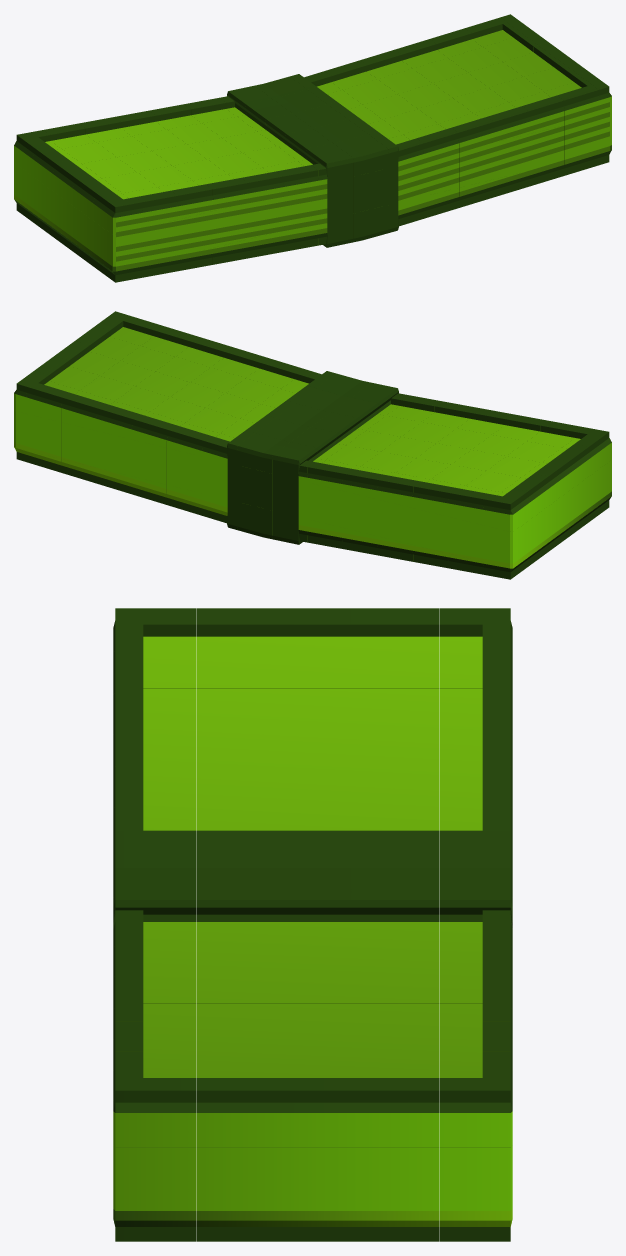
The model's file is Money.fbx.
The picture shows the model from 3 angles, top to bottom: view 1: azimuth 30°, elevation 25°; view 2: azimuth 150°, elevation 25°; view 3: azimuth 270°, elevation 25°; orthographic projection. The views are drawn at different scales.
Visible parts, largest first — view 1: Money.032, Money.007, Money.129, Money.185, Money.114, Money.166, Money.224, Money.038, Money.041, Money.099, Money.200, Money.210 (+100 smaller); view 2: Money.031, Money.006, Money.027, Money.029, Money.020, Money.122, Money.178, Money.087, Money.103, Money.164, Money.225, Money.039 (+88 smaller); view 3: Money.012, Money.043, Money.050, Money.057, Money.014, Money.042, Money.049, Money.056, Money.002, Money.004, Money.064, Money.071 (+73 smaller).
Part boxes in pixels (x1,y1,x2,y2): Money.032: [248, 158, 353, 247]; Money.007: [388, 143, 423, 232]; Money.129: [529, 125, 564, 170]; Money.185: [283, 185, 318, 230]; Money.114: [494, 134, 529, 178]; Money.166: [248, 194, 283, 238]; Money.224: [178, 211, 213, 256]; Money.038: [353, 168, 388, 213]; Money.041: [564, 117, 599, 161]; Money.099: [459, 142, 494, 187]; Money.200: [213, 202, 248, 247]; Money.210: [143, 219, 178, 264]; Money.031: [272, 442, 324, 544]; Money.006: [202, 430, 254, 529]; Money.027: [483, 519, 530, 568]; Money.029: [483, 488, 530, 531]; Money.020: [26, 374, 79, 422]; Money.122: [61, 422, 96, 467]; Money.178: [307, 482, 342, 527]; Money.087: [131, 439, 166, 484]; Money.103: [96, 431, 131, 475]; Money.164: [342, 491, 377, 535]; Money.225: [412, 508, 447, 553]; Money.039: [237, 465, 272, 510]; Money.012: [115, 1147, 196, 1220]; Money.043: [196, 1147, 277, 1220]; Money.050: [277, 1147, 358, 1220]; Money.057: [358, 1147, 439, 1220]; Money.014: [115, 1081, 196, 1147]; Money.042: [196, 1081, 277, 1147]; Money.049: [277, 1081, 358, 1147]; Money.056: [358, 1081, 439, 1147]; Money.002: [440, 1145, 512, 1220]; Money.004: [440, 1081, 512, 1147]; Money.064: [277, 891, 358, 943]; Money.071: [196, 891, 277, 943].
Size of the model in its own units: 94.84 by 16.98 by 32.88.
